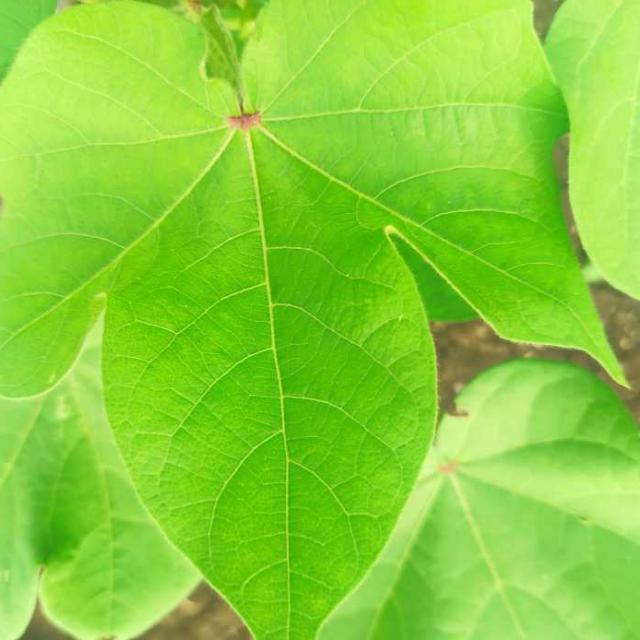Healthy Leaf: (16, 5, 640, 640)
